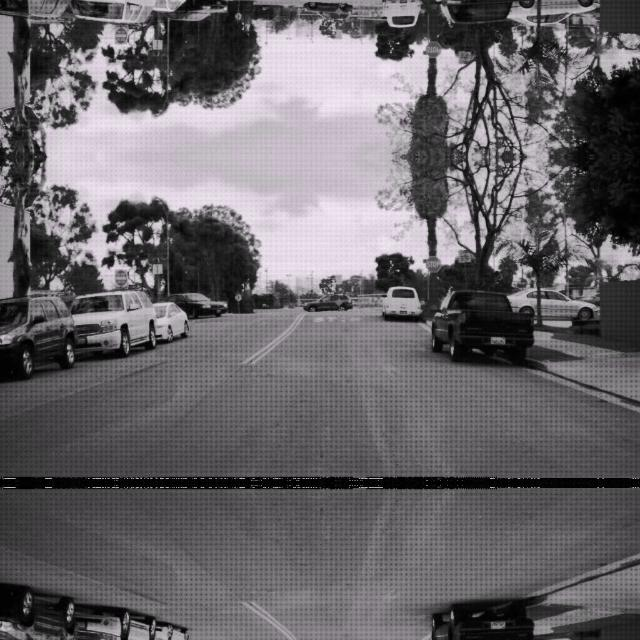stop: (425, 254, 441, 272), (425, 40, 441, 58)
